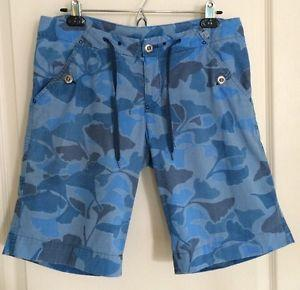C_shorts: (5, 3, 296, 282)
